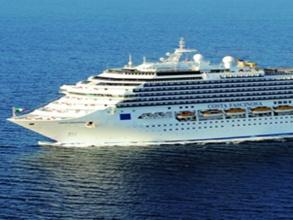youlun: (3, 38, 293, 146)
